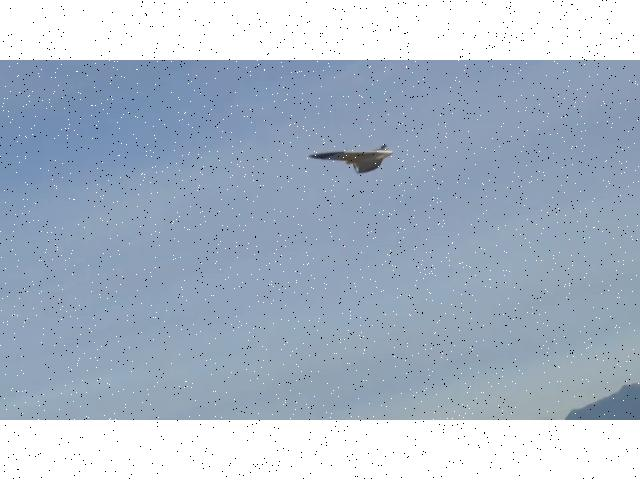Anti-Drone: (310, 146, 394, 173)
